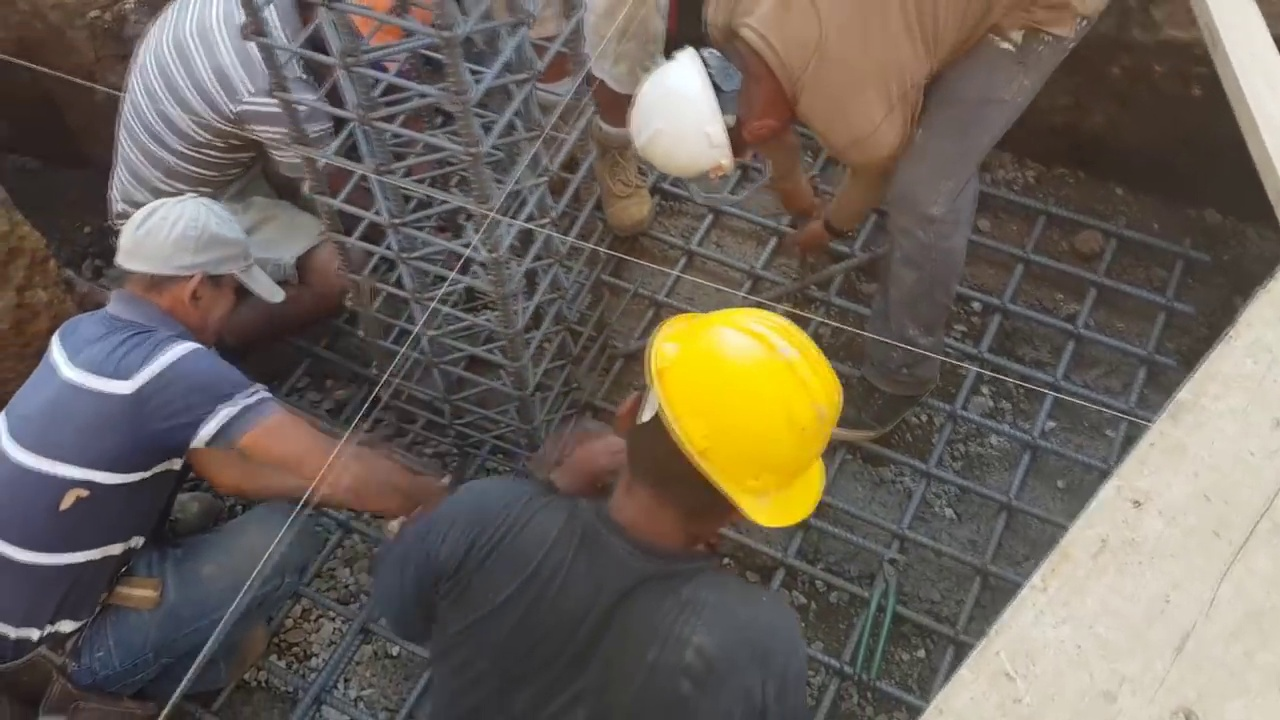helmet: (634, 312, 848, 532), (640, 31, 737, 185), (344, 0, 428, 70)
helmet-off: (98, 197, 286, 338)
helmet-on: (578, 310, 842, 566), (638, 24, 800, 186), (286, 2, 430, 76)
person: (0, 194, 447, 711), (638, 0, 1114, 439), (373, 311, 844, 718), (105, 0, 448, 326), (506, 0, 667, 234)
